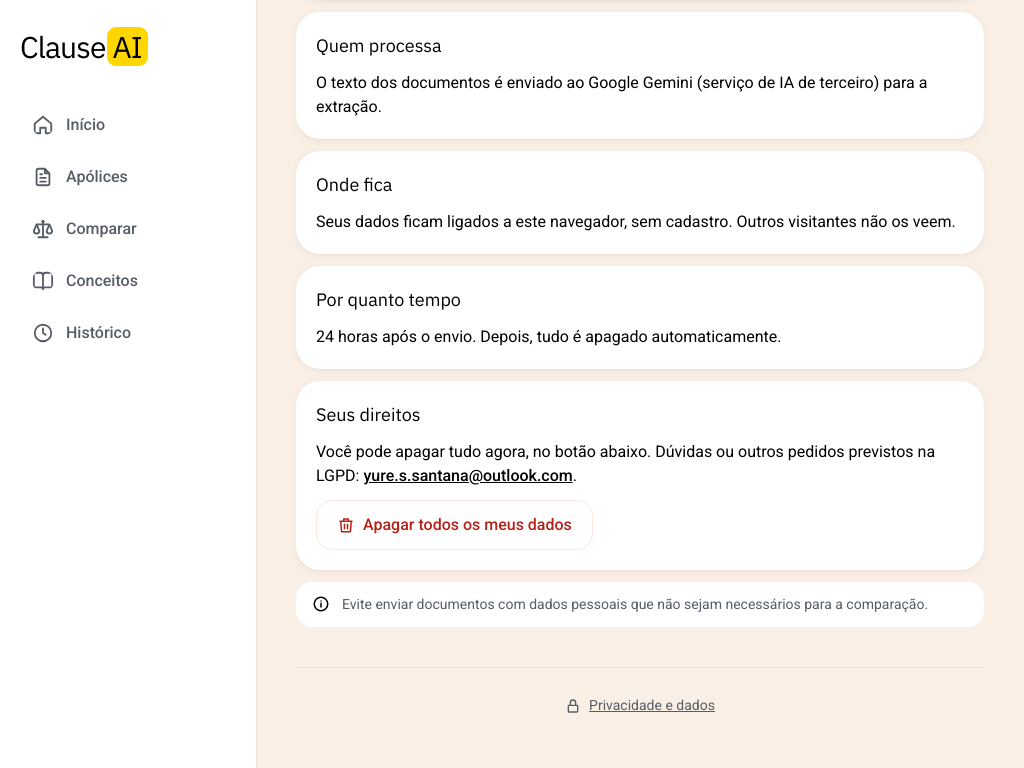
Scenario: Privacidade e dados › explica a falha e mantém o modal aberto para tentar de novo
(page scrolled)
Click the button "Apagar todos os meus dados" at (454, 525), box 316,500 -> 593,550
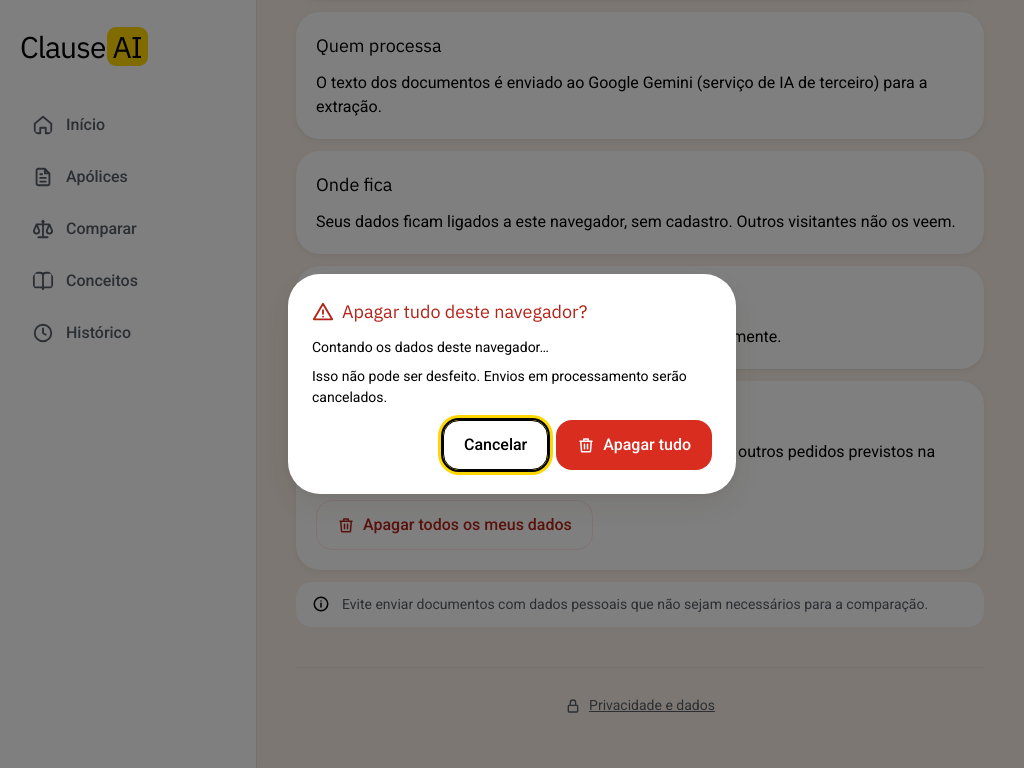
Click the button "Apagar tudo" at (634, 445), box 556,420 -> 712,470
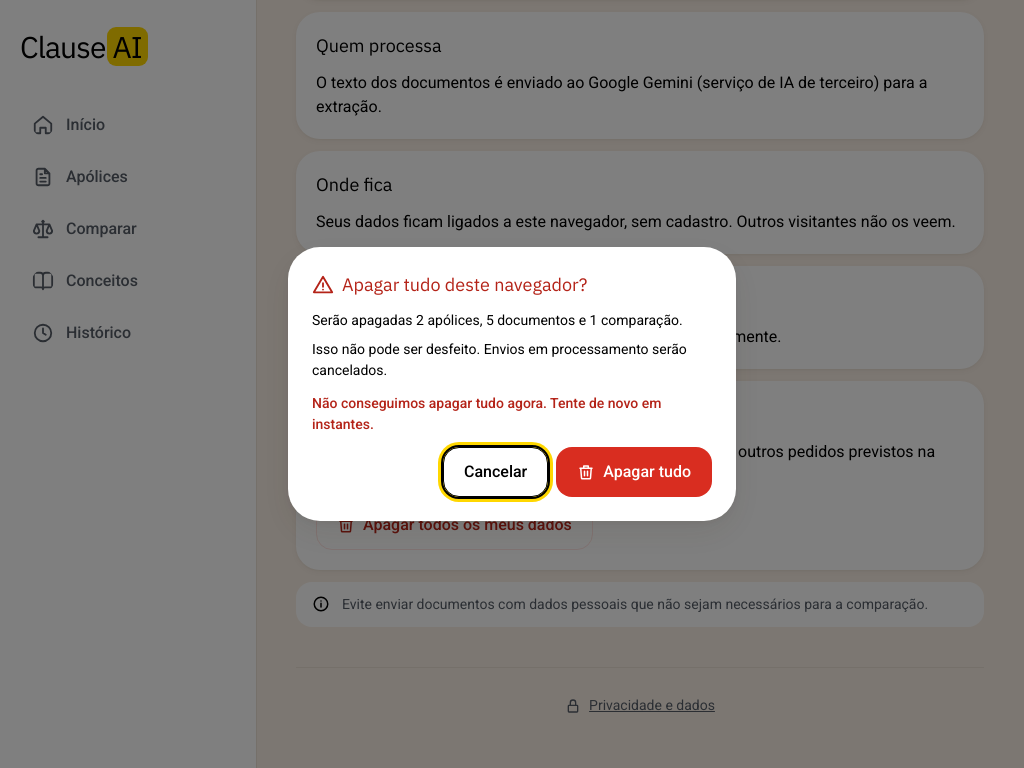
Check: the dialog is shown, box 288,247 -> 736,521
Check: the button "Apagar tudo" is enabled, box 556,447 -> 712,497
Check: the text "Não conseguimos apagar tudo agora. Tente de novo em instantes." is shown, box 312,393 -> 712,435
